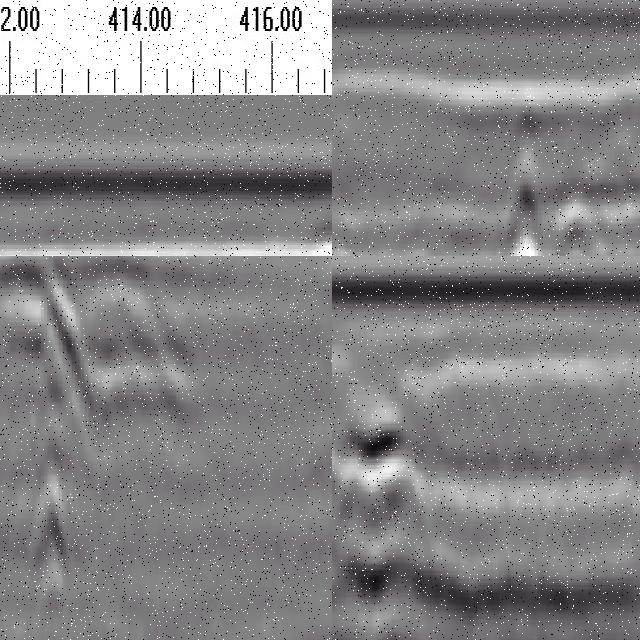crack: (27, 257, 73, 598), (506, 94, 548, 257)
loose: (333, 405, 434, 623), (84, 263, 194, 446)
